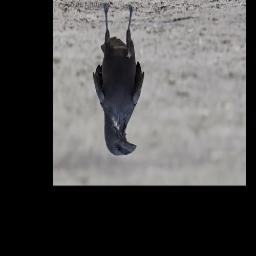Crow: (92, 2, 146, 157)
